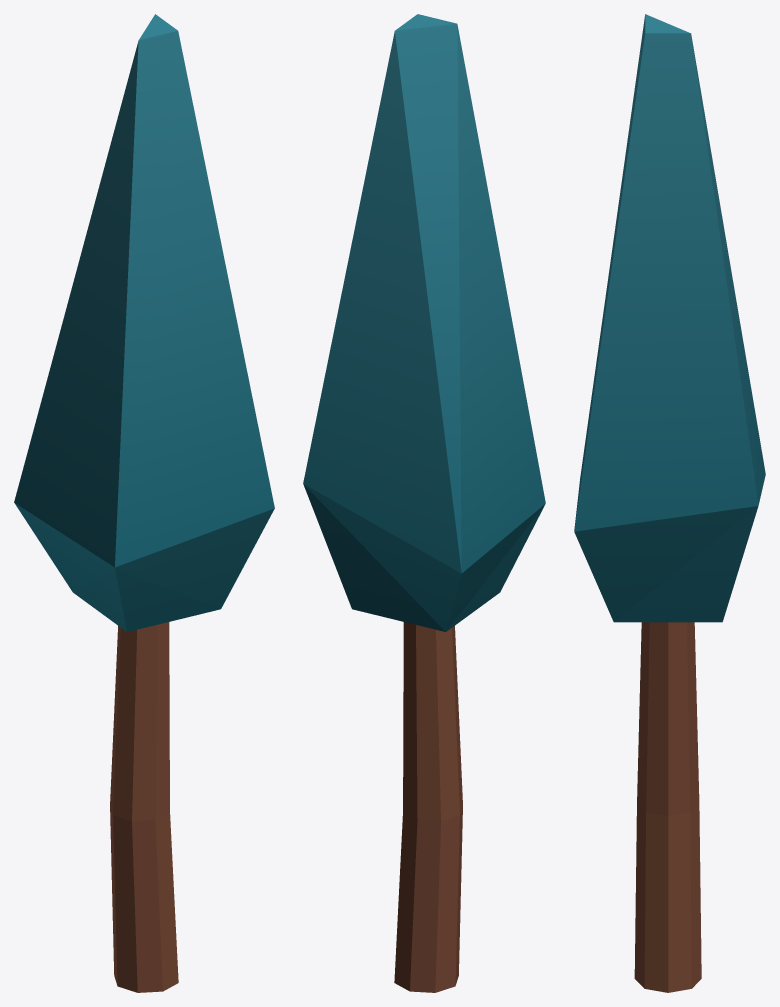
The model's file is Tree_49_gradient_blue_vc.fbx.
3 renders of one model, left to right at view 1: azimuth 30°, elevation 25°; view 2: azimuth 150°, elevation 25°; view 3: azimuth 270°, elevation 25°, orthographic.
Visible parts, largest first — view 1: Tree_49_gradient_blue_vc; view 2: Tree_49_gradient_blue_vc; view 3: Tree_49_gradient_blue_vc.
Boxes of the visible parts, box(x1,y1,x2,y2) form: Tree_49_gradient_blue_vc: box(14, 14, 274, 992); Tree_49_gradient_blue_vc: box(303, 14, 545, 992); Tree_49_gradient_blue_vc: box(574, 14, 765, 992).
Size of the model in its own units: 47.16 by 259 by 47.16.
